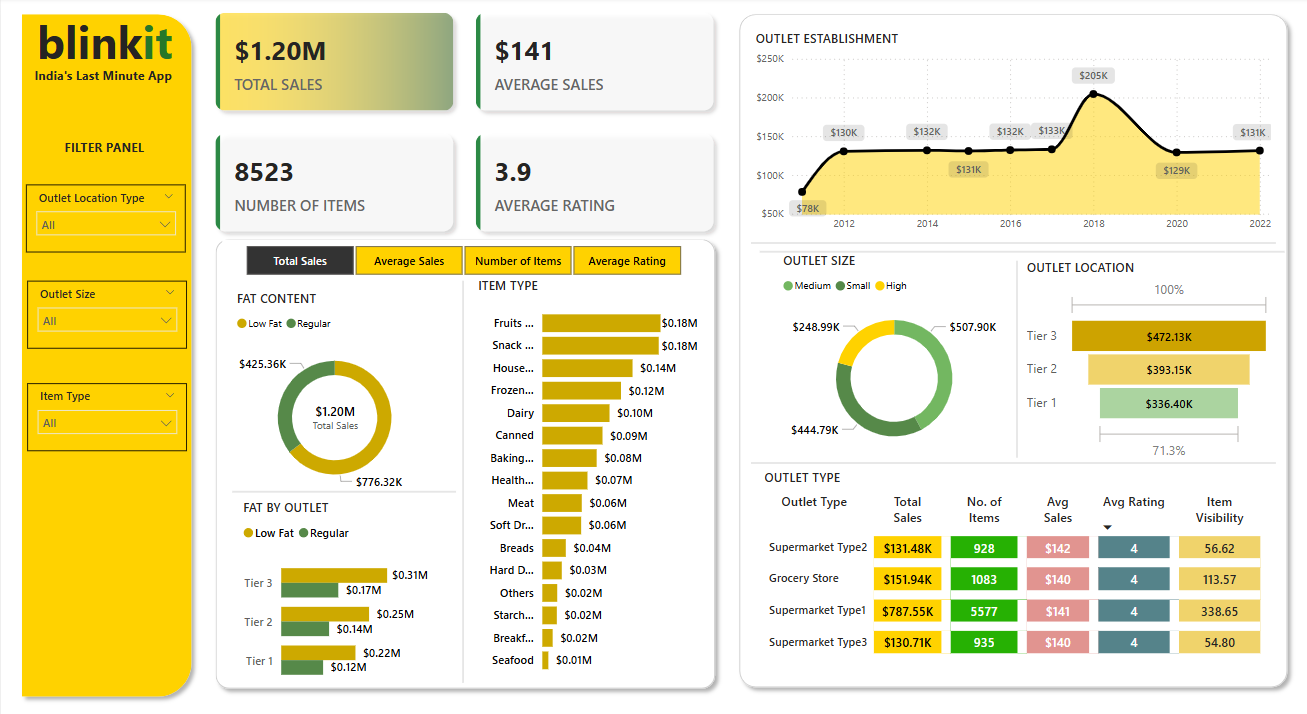

Layout of this report page (visuals, bound fields, positions):
{"tool":"powerbi","page":{"name":"Page 1","canvas":[1400,800],"ordinal":0},"visuals":[{"type":"shape","box":[12.9,10,200,750],"z":0},{"type":"textbox","box":[26.8,9.4,168.9,76.4],"z":1000},{"type":"textbox","box":[30.8,69.7,167.6,33.5],"z":2000},{"type":"cardVisual","fields":{"Data":["Blinkit grocery data.Total Sales","Blinkit grocery data.Average Sales","Blinkit grocery data.Number of Items","Blinkit grocery data.Average Rating"]},"box":[213.1,0,569.7,269.4],"z":3000},{"type":"shape","box":[221.2,250.7,553.6,500],"z":4000},{"type":"donutChart","title":"FAT CONTENT","fields":{"Y":["Blinkit grocery data.Total Sales"],"Category":["Blinkit grocery data.Item Fat Content"]},"box":[248.6,314.3,220,230],"z":5000},{"type":"slicer","fields":{"Values":["Metrics.Metrics"]},"box":[237.1,260,515.7,44.3],"z":6000},{"type":"cardVisual","fields":{"Data":["Blinkit grocery data.Total Sales"]},"box":[290,401.4,138.6,98.6],"z":7000},{"type":"clusteredBarChart","title":"FAT BY OUTLET","fields":{"Y":["Blinkit grocery data.Total Sales"],"Category":["Blinkit grocery data.Outlet Location Type"],"Series":["Blinkit grocery data.Item Fat Content"]},"box":[254.3,537.1,208.6,212.9],"z":8000},{"type":"shape","box":[248.6,524.3,240,12.9],"z":9000},{"type":"shape","box":[491.4,304.3,7.1,431.4],"z":9001},{"type":"barChart","title":"ITEM TYPE","fields":{"Y":["Blinkit grocery data.Total Sales"],"Category":["Blinkit grocery data.Item Type"]},"box":[507.1,300,245.7,435.7],"z":9002},{"type":"shape","box":[782.9,10,605.7,740],"z":9003},{"type":"lineChart","title":"OUTLET ESTABLISHMENT","fields":{"Category":["Blinkit grocery data.Outlet Establishment Year"],"Y":["Blinkit grocery data.Total Sales"]},"box":[804.3,34.3,562.9,225.7],"z":9004},{"type":"shape","box":[804.3,257.1,562.9,12.9],"z":9005},{"type":"shape","box":[804.3,492.9,562.9,12.9],"z":9006},{"type":"shape","box":[814.3,267.1,562.9,12.9],"z":9007},{"type":"shape","box":[1082.9,282.9,12.9,211.4],"z":9008},{"type":"donutChart","title":"OUTLET SIZE","fields":{"Y":["Blinkit grocery data.Total Sales"],"Category":["Blinkit grocery data.Outlet Size"]},"box":[834.3,272.9,248.6,225.7],"z":9009},{"type":"funnel","title":"OUTLET LOCATION","fields":{"Y":["Blinkit grocery data.Total Sales"],"Category":["Blinkit grocery data.Outlet Location Type"]},"box":[1095.7,280,271.4,221.4],"z":9010},{"type":"pivotTable","title":"OUTLET TYPE","fields":{"Rows":["Blinkit grocery data.Outlet Type"],"Values":["Blinkit grocery data.Total Sales","Blinkit grocery data.Number of Items","Blinkit grocery data.Average Sales","Blinkit grocery data.Average Rating","Sum(Blinkit grocery data.Item Visibility)"]},"box":[814.3,505.7,552.9,215.7],"z":9011},{"type":"slicer","fields":{"Values":["Blinkit grocery data.Outlet Location Type"]},"box":[27.1,201.4,171.4,72.9],"z":9012},{"type":"slicer","fields":{"Values":["Blinkit grocery data.Outlet Size"]},"box":[28.6,304.3,171.4,72.9],"z":9013},{"type":"slicer","fields":{"Values":["Blinkit grocery data.Item Type"]},"box":[28.6,414.3,171.4,72.9],"z":9014},{"type":"textbox","box":[62.9,147.1,137.1,40],"z":9015}]}

Visuals, with their boxes on the page's 1400x800 design canvas (x1, y1, x2, y2). These are canvas units, not pixel positions in the 1307x714 screenshot, which may show the page scaled, cropped or inside an application window:
shape: 13 10 213 760
textbox: 27 9 196 86
textbox: 31 70 198 103
cardVisual - Blinkit grocery data.Total Sales x Blinkit grocery data.Average Sales: 213 0 783 269
shape: 221 251 775 751
"FAT CONTENT" donutChart: 249 314 469 544
slicer - Metrics.Metrics: 237 260 753 304
cardVisual - Blinkit grocery data.Total Sales: 290 401 429 500
"FAT BY OUTLET" clusteredBarChart: 254 537 463 750
shape: 249 524 489 537
shape: 491 304 498 736
"ITEM TYPE" barChart: 507 300 753 736
shape: 783 10 1389 750
"OUTLET ESTABLISHMENT" lineChart: 804 34 1367 260
shape: 804 257 1367 270
shape: 804 493 1367 506
shape: 814 267 1377 280
shape: 1083 283 1096 494
"OUTLET SIZE" donutChart: 834 273 1083 499
"OUTLET LOCATION" funnel: 1096 280 1367 501
"OUTLET TYPE" pivotTable: 814 506 1367 721
slicer - Blinkit grocery data.Outlet Location Type: 27 201 198 274
slicer - Blinkit grocery data.Outlet Size: 29 304 200 377
slicer - Blinkit grocery data.Item Type: 29 414 200 487
textbox: 63 147 200 187
